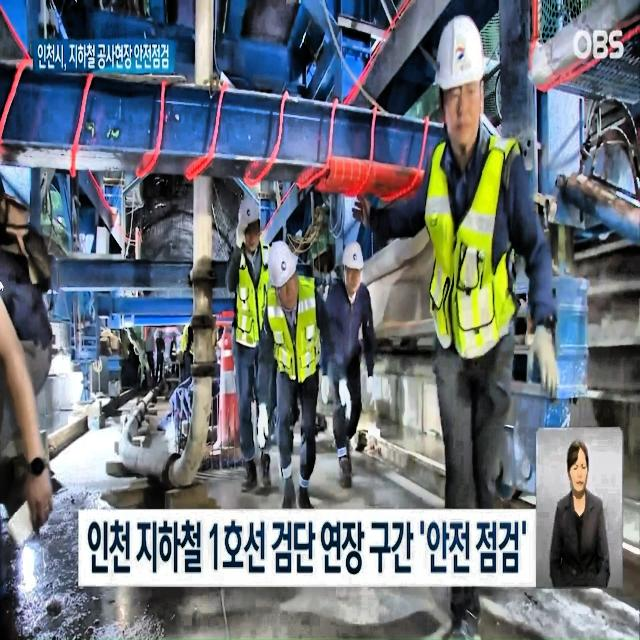safety_helmet: (434, 16, 509, 100), (260, 234, 305, 295), (232, 187, 266, 234), (341, 240, 372, 284)
safety_jacket: (418, 162, 527, 370), (260, 289, 320, 403), (230, 248, 275, 348)
